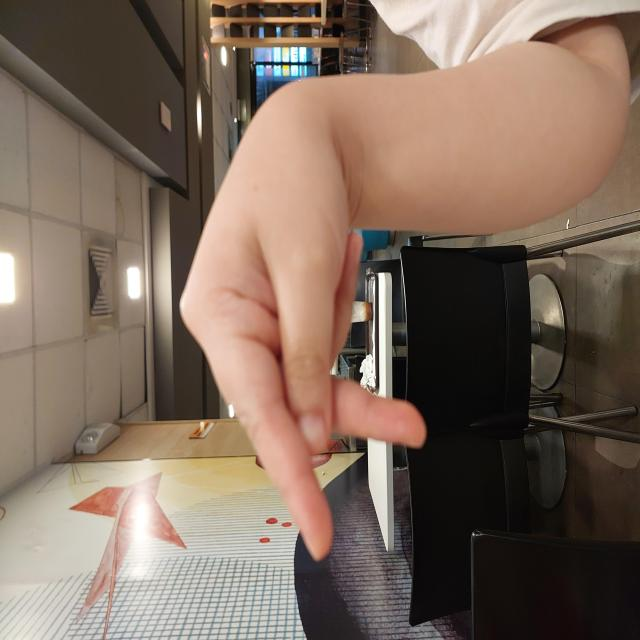P: (77, 178, 521, 429)
